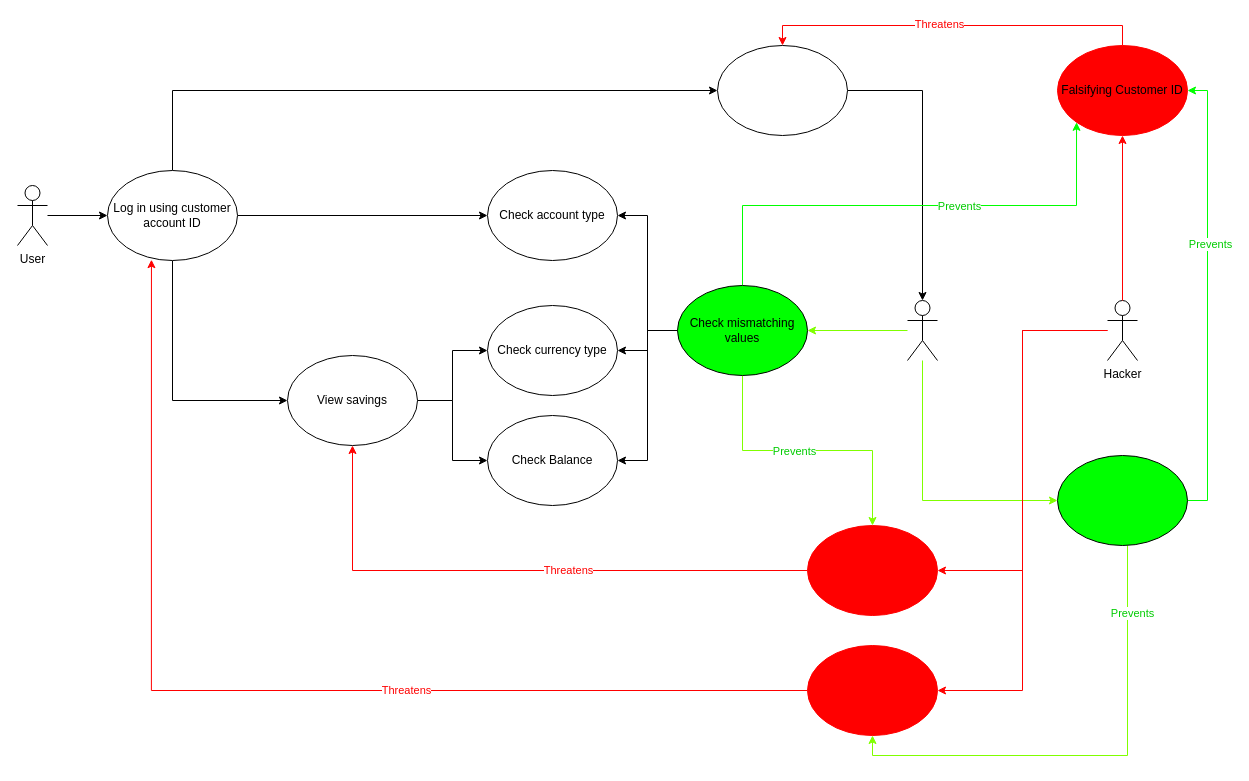
Some shapes in this 1249 by 781 pixel diagram are drawn without their labels. The centre of each missing label's shape, as x and y in pixels:
2FA: point (1122, 500)
Customer ID is shown in records: point (782, 90)
Database: point (922, 330)
Falsify Account ID: point (872, 690)
Illegal transfer of savings to hacker account without user knowing: point (872, 570)
